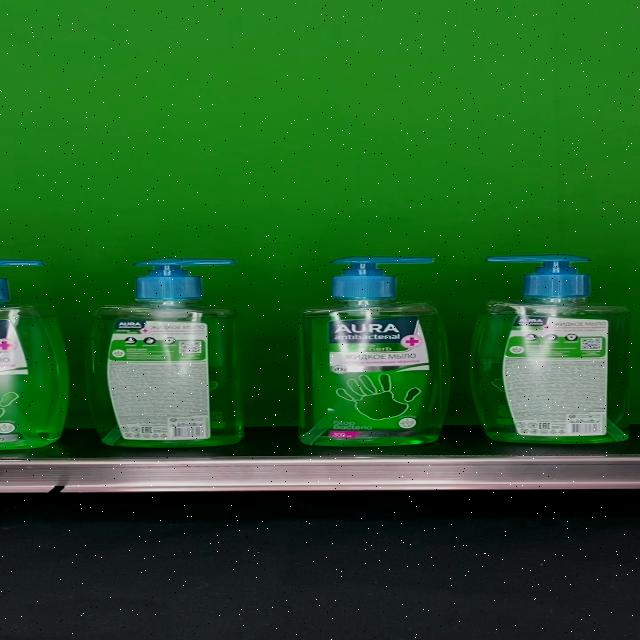Bottle: (470, 255, 630, 444), (86, 258, 244, 448), (296, 256, 450, 446)
Cap: (486, 255, 592, 298), (330, 256, 435, 299), (134, 258, 237, 300)
